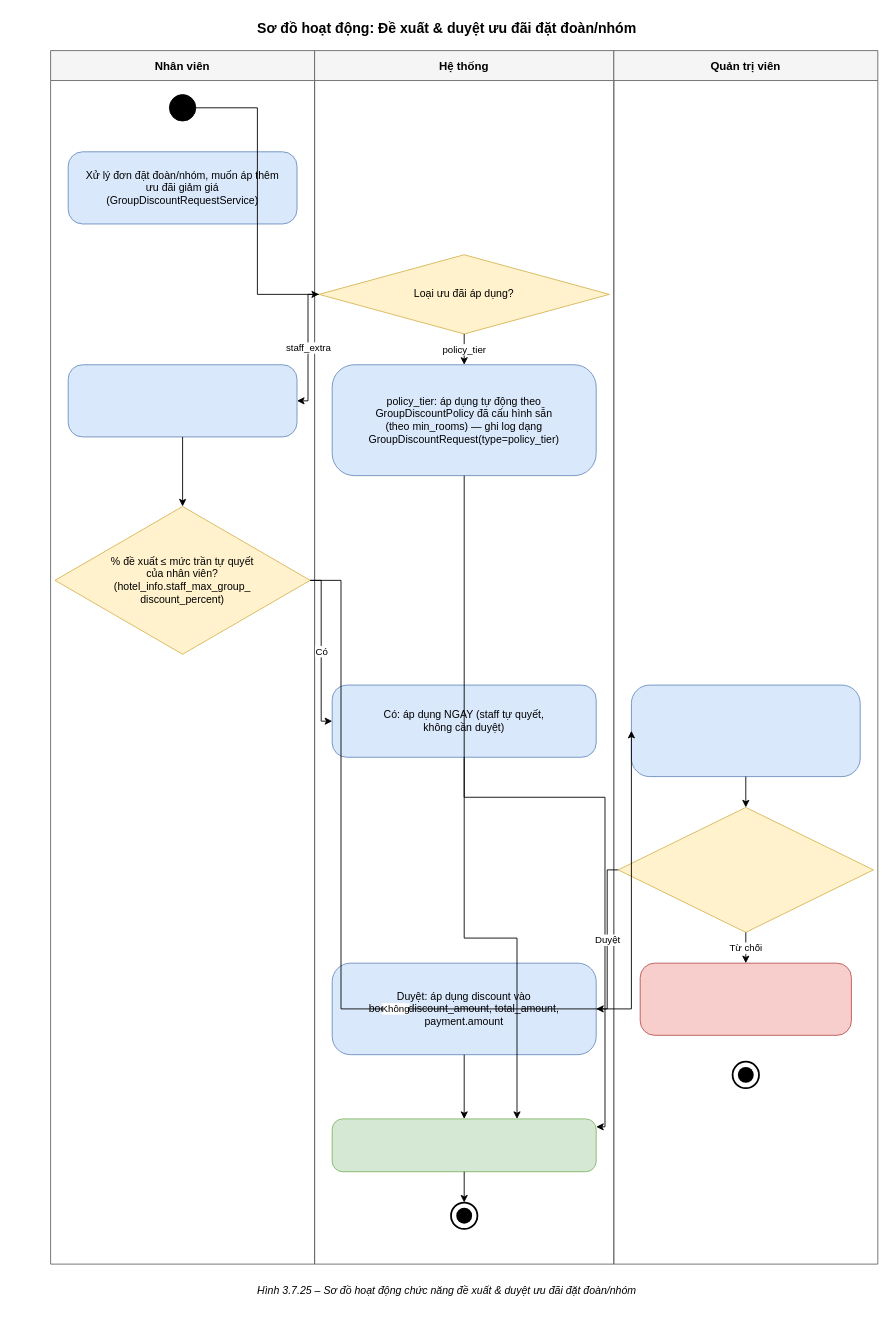
Image size: 893x1318. Some labels were removed from this diagram. The centre of each missing label's shape, as x and y in pixels:
Admin xem, duyệt yêu cầu? (có thể điều chỉnh % duyệt khác với đề xuất): [745,869]
Ghi log, thông báo kết quả cho nhân viên: [463,1145]
Không: tạo GroupDiscountRequest (status=pending, lưu staff_cap_percent_snapshot): [745,730]
staff_extra: nhân viên đề xuất thêm ngoài chính sách sẵn có: [182,400]
Từ chối: status=rejected, ghi lý do: [745,998]
